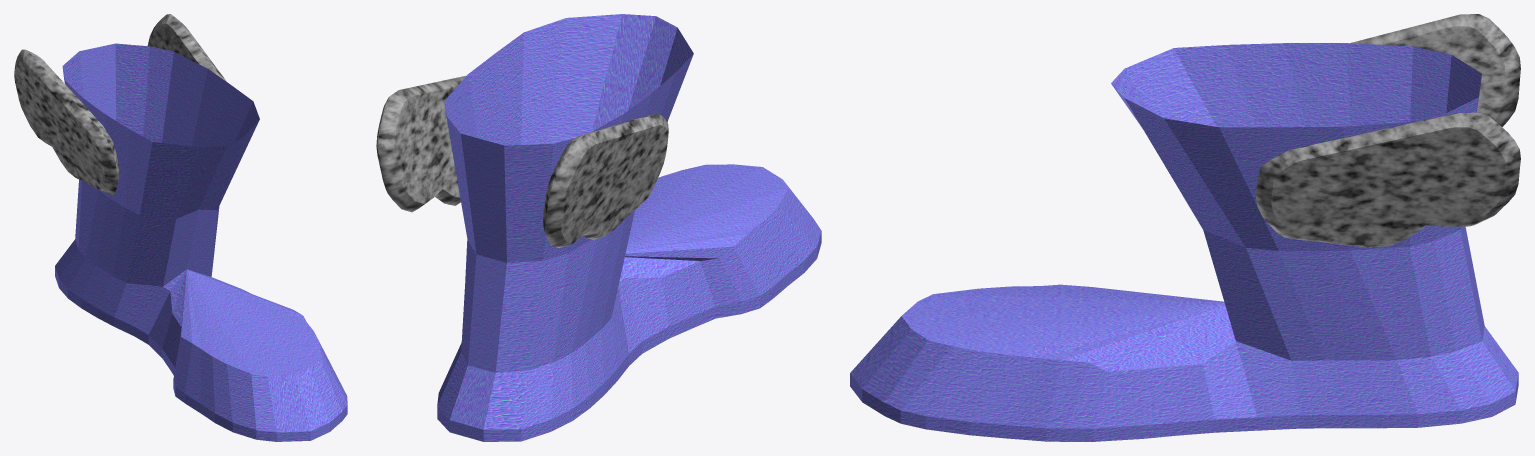
The model's file is 1 botas.FBX.
3 renders of one model, left to right at view 1: azimuth 30°, elevation 25°; view 2: azimuth 150°, elevation 25°; view 3: azimuth 270°, elevation 25°, orthographic. The views are drawn at different scales.
Parts seen in each view (by area): view 1: pata, right wing, left wing; view 2: pata, right wing, left wing; view 3: pata, left wing, right wing.
Boxes of the visible parts, x1=… form: pata: x1=55, y1=43, x2=347, y2=441; right wing: x1=14, y1=49, x2=119, y2=194; left wing: x1=147, y1=14, x2=226, y2=81; pata: x1=437, y1=14, x2=821, y2=441; right wing: x1=543, y1=113, x2=668, y2=247; left wing: x1=376, y1=75, x2=466, y2=212; pata: x1=850, y1=43, x2=1518, y2=441; left wing: x1=1256, y1=112, x2=1520, y2=247; right wing: x1=1350, y1=14, x2=1520, y2=127.
Size of the model in its own units: 71.48 by 104 by 190.
